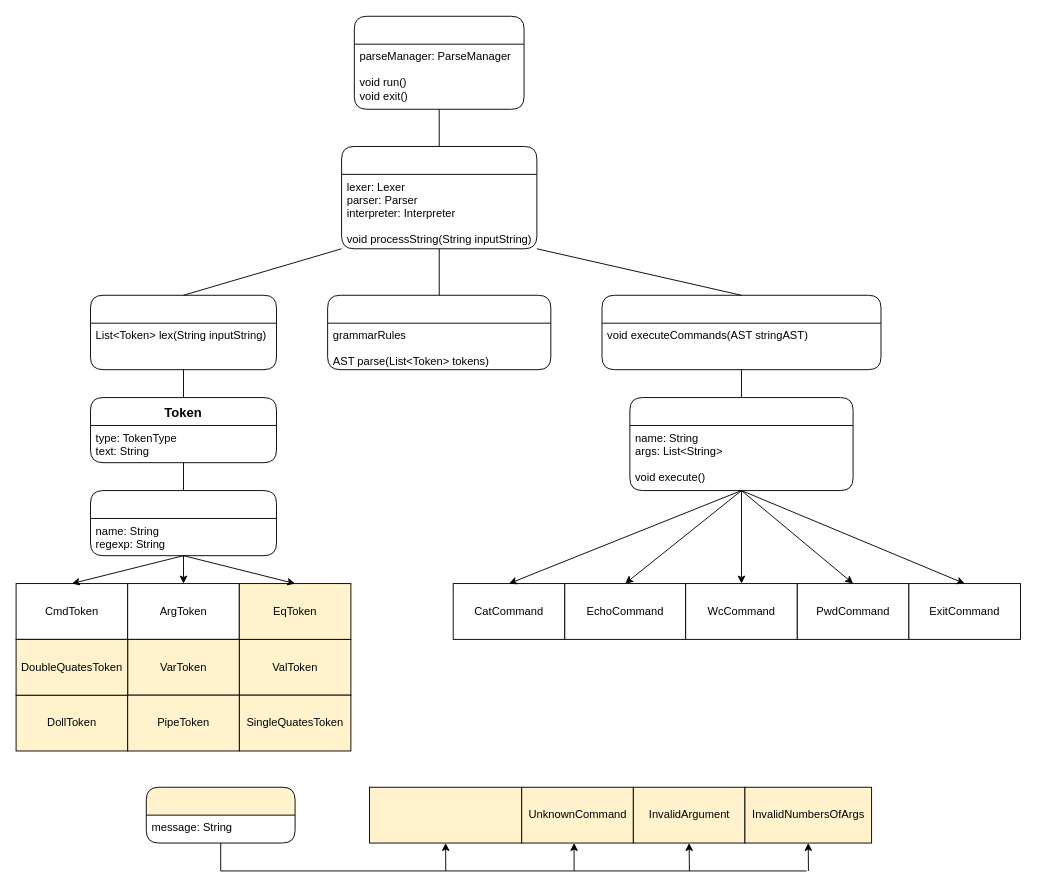
Image size: 1037x895. Some labels were removed from this diagram. Here are the shapes that lost their labels. From the top down, the box of each, then its label:
(353, 15, 524, 109): GUI
(341, 146, 537, 249): ParseManager
(90, 294, 276, 370): Lexer
(327, 294, 551, 370): Parser
(601, 294, 881, 370): Interpreter
(629, 397, 853, 491): Command
(90, 490, 276, 556): TokenType
(145, 786, 295, 843): Exception
(369, 786, 522, 843): UnexpectedTokenException
